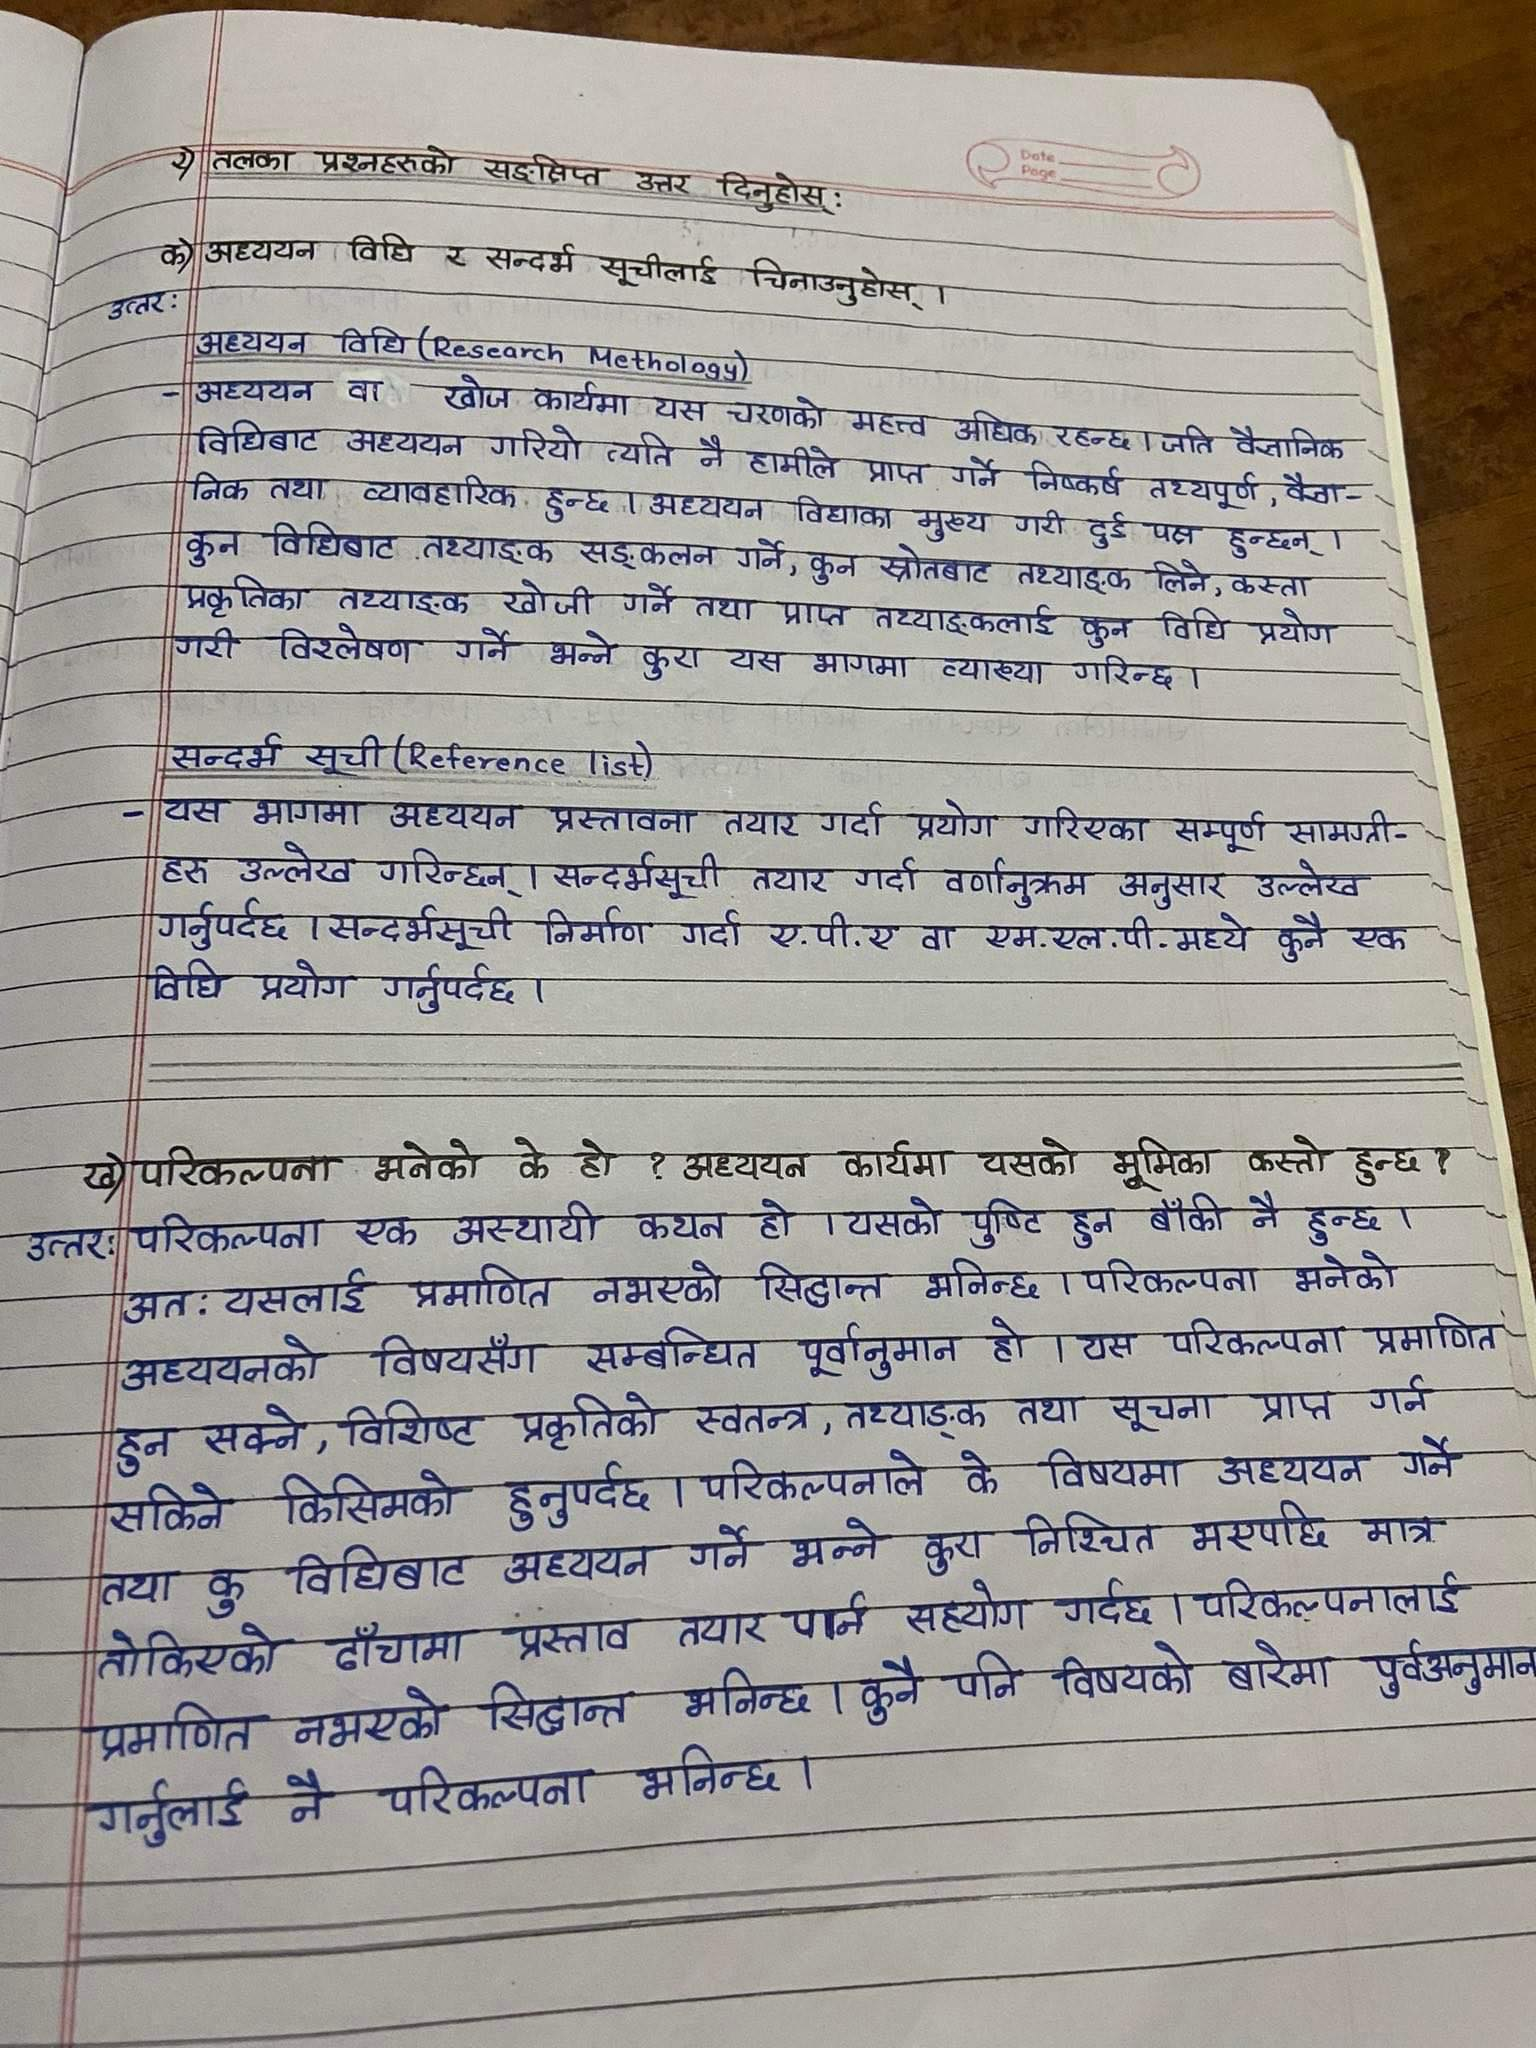text: (1187, 1567, 1475, 1622), (694, 1450, 933, 1508), (374, 1763, 600, 1822), (124, 1330, 328, 1395), (1359, 1634, 1536, 1705), (265, 1469, 470, 1530), (82, 1779, 253, 1848), (90, 1624, 287, 1682), (139, 1143, 345, 1198), (499, 1459, 657, 1530), (794, 1319, 965, 1384), (749, 253, 923, 314), (86, 1701, 263, 1761), (282, 1546, 473, 1601), (511, 1387, 663, 1455), (292, 1688, 445, 1755), (1052, 1640, 1196, 1709), (1162, 1313, 1347, 1366), (579, 1326, 763, 1377), (326, 905, 515, 955), (479, 1675, 636, 1735), (132, 1213, 329, 1259), (399, 1259, 563, 1314), (215, 1266, 376, 1321), (631, 1745, 787, 1801), (1076, 1255, 1270, 1300), (899, 1580, 1041, 1642), (369, 845, 526, 900), (1187, 1498, 1339, 1555), (366, 1332, 541, 1380), (942, 856, 1096, 911), (550, 853, 723, 901), (378, 958, 523, 1014), (679, 1664, 820, 1722), (1218, 1637, 1346, 1700), (750, 1256, 892, 1313), (1013, 1509, 1162, 1563), (447, 1201, 603, 1251), (319, 1622, 473, 1672), (332, 1401, 481, 1453), (1100, 1130, 1221, 1192), (368, 1134, 492, 1193), (158, 895, 297, 948), (873, 600, 1055, 640), (836, 1397, 995, 1442), (103, 1484, 231, 1540), (1042, 1445, 1194, 1492), (1363, 1313, 1504, 1363), (712, 155, 836, 211), (361, 471, 526, 513), (198, 1401, 310, 1463), (316, 135, 465, 181), (920, 1255, 1046, 1306), (1212, 1450, 1371, 1490), (678, 1142, 813, 1188), (592, 1261, 728, 1308), (500, 1543, 657, 1584), (836, 1135, 954, 1188), (261, 519, 400, 564), (269, 624, 424, 664), (595, 245, 733, 290), (181, 574, 310, 621), (870, 543, 999, 590), (970, 1130, 1079, 1185), (1054, 1577, 1162, 1632), (852, 1653, 926, 1732), (687, 1398, 816, 1443), (482, 145, 607, 192), (1249, 860, 1373, 906), (1142, 463, 1258, 513), (576, 534, 720, 574), (545, 801, 700, 839), (416, 529, 558, 569), (942, 1648, 1031, 1713), (502, 1617, 637, 1659), (787, 1516, 883, 1576), (645, 485, 766, 532), (1291, 1250, 1404, 1300), (1104, 1390, 1226, 1435), (1228, 418, 1346, 464), (239, 840, 357, 887), (536, 906, 653, 953), (334, 581, 476, 619), (1284, 805, 1397, 853), (1021, 805, 1150, 847), (386, 795, 523, 834), (783, 1592, 876, 1648), (532, 376, 637, 426), (195, 419, 324, 460), (1342, 1127, 1423, 1192), (168, 734, 292, 774), (1113, 868, 1233, 910), (681, 1521, 765, 1580), (1168, 808, 1275, 855), (842, 1193, 941, 1243), (1142, 1192, 1234, 1245), (1170, 913, 1254, 971), (247, 793, 366, 834), (16, 1222, 111, 1272), (958, 1197, 1050, 1248), (632, 1201, 737, 1247), (1304, 1193, 1392, 1247), (813, 643, 916, 689), (253, 961, 357, 1006), (494, 576, 600, 619), (350, 426, 470, 464), (194, 374, 318, 411), (908, 798, 1000, 848), (1242, 1130, 1334, 1180), (1271, 906, 1341, 972), (1246, 606, 1339, 655), (1223, 518, 1323, 563), (1388, 1430, 1470, 1485), (484, 239, 582, 284), (1066, 655, 1181, 693), (205, 232, 324, 269), (147, 955, 231, 1006), (916, 1517, 991, 1576), (1015, 560, 1136, 595), (484, 424, 589, 464), (845, 402, 933, 450), (1354, 1508, 1450, 1551), (936, 651, 1049, 689), (954, 1447, 1029, 1501), (949, 406, 1041, 452), (744, 440, 842, 482), (789, 493, 895, 532), (1018, 460, 1125, 498), (983, 1311, 1042, 1377), (1250, 1380, 1344, 1422), (195, 326, 315, 358), (724, 393, 828, 431), (349, 1208, 428, 1256), (674, 1609, 768, 1650), (1007, 1387, 1087, 1434), (720, 805, 808, 847), (1226, 566, 1326, 603), (600, 429, 679, 476), (308, 732, 384, 780), (750, 860, 837, 901), (449, 626, 528, 671), (207, 144, 298, 182), (1063, 1193, 1125, 1251), (110, 1422, 173, 1479), (1071, 1317, 1142, 1367), (1149, 605, 1233, 647), (850, 856, 928, 901), (118, 1280, 195, 1326), (537, 481, 611, 527), (98, 1564, 173, 1611), (565, 1130, 623, 1188), (907, 505, 992, 543), (547, 627, 616, 674), (440, 374, 515, 418), (279, 1767, 334, 1825), (673, 910, 749, 951), (266, 471, 344, 511), (331, 326, 415, 363), (820, 801, 892, 843), (1050, 419, 1134, 455), (1363, 1377, 1439, 1416), (639, 635, 703, 681), (773, 597, 854, 632), (186, 521, 245, 568), (507, 1129, 553, 1188), (649, 389, 716, 429), (155, 848, 219, 890), (160, 797, 234, 832), (347, 231, 411, 271), (1281, 469, 1346, 510), (750, 1193, 800, 1245), (1347, 922, 1417, 959), (102, 292, 186, 323), (203, 1558, 245, 1619), (721, 642, 787, 681), (173, 626, 244, 661), (860, 455, 931, 490), (79, 1148, 123, 1205), (187, 469, 253, 506), (1146, 560, 1212, 597), (615, 579, 674, 619), (691, 590, 758, 626), (1155, 421, 1217, 460), (1050, 918, 1108, 958), (807, 543, 858, 589), (1078, 610, 1134, 650), (1012, 508, 1066, 548), (1083, 508, 1131, 553), (950, 453, 1004, 493), (629, 161, 695, 194), (734, 539, 787, 577), (340, 369, 389, 411), (1144, 519, 1205, 552), (1249, 1187, 1284, 1238), (692, 434, 734, 477), (986, 919, 1036, 955), (813, 910, 855, 951), (1118, 914, 1155, 959), (768, 918, 810, 956), (916, 922, 958, 959), (148, 234, 192, 269), (866, 918, 904, 956), (440, 231, 473, 274)
